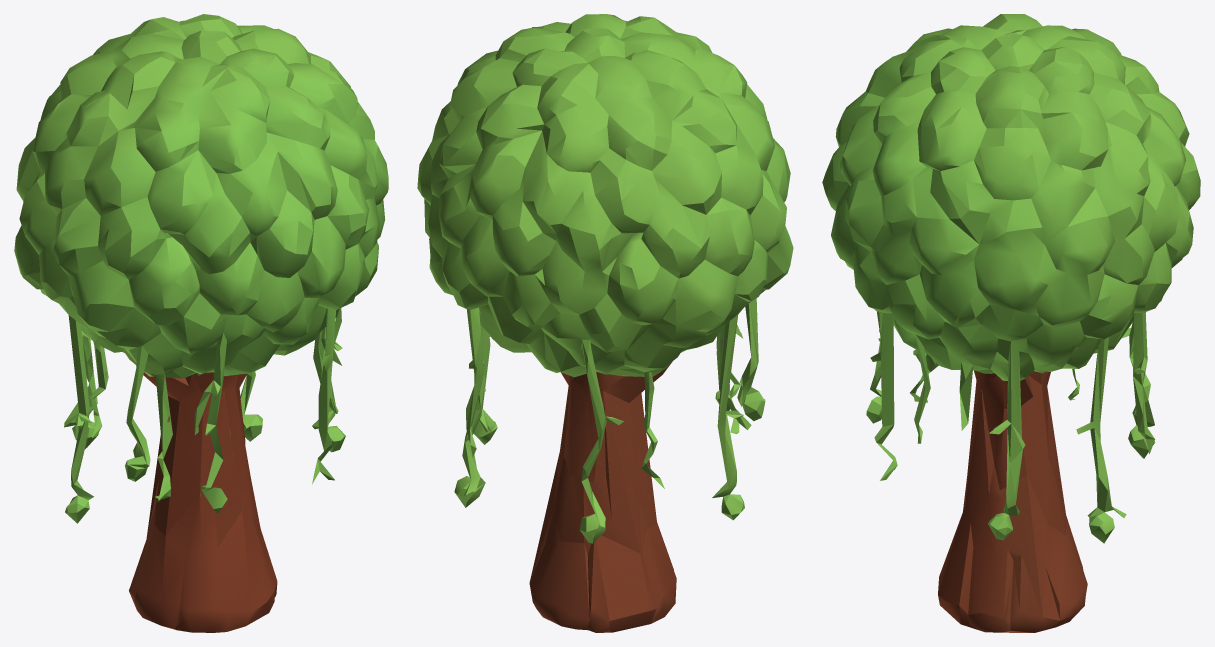
File: prop.glb
The picture shows the model from 3 angles, left to right: view 1: azimuth 30°, elevation 25°; view 2: azimuth 150°, elevation 25°; view 3: azimuth 270°, elevation 25°; orthographic projection.
Bounding box in the file's own units: 1.14 × 1.9 × 1.13.
Materials: 1 (1 with a texture image).
